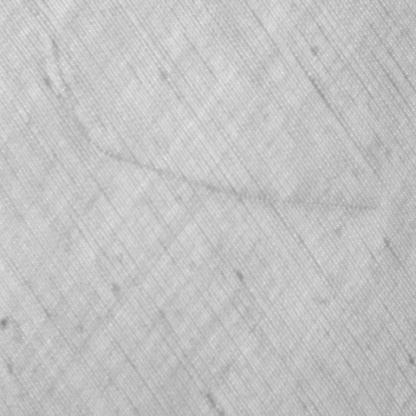objects: (40, 31, 380, 218)
